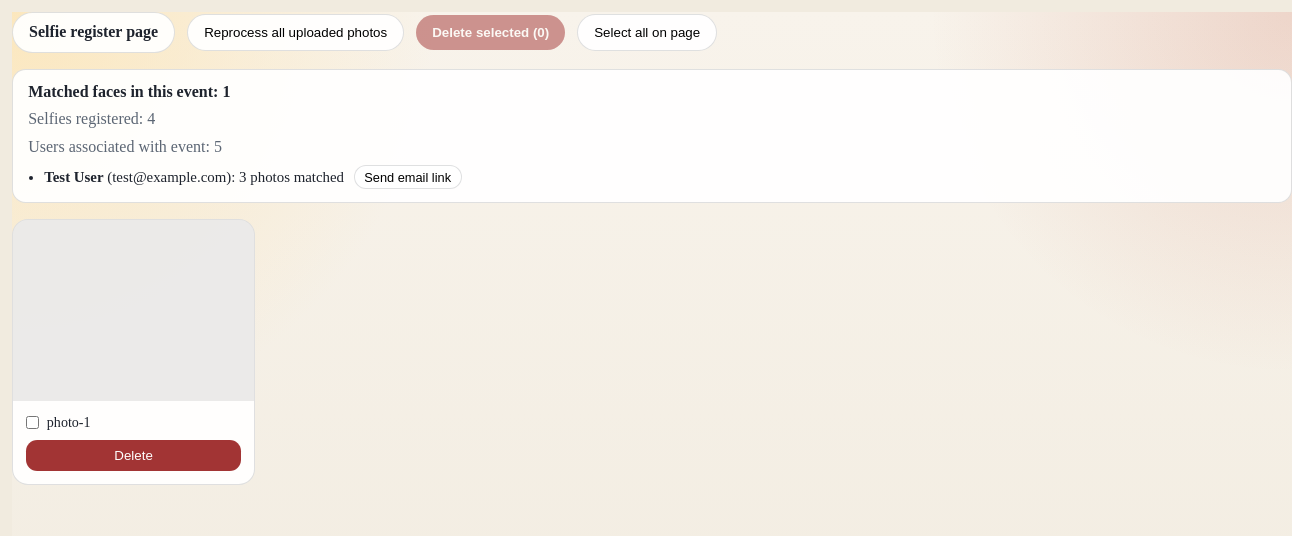
Test: photos manager › reprocesses all uploaded photos and shows summary counts
Click the button "Reprocess all uploaded photos" at (296, 32), box top-left (187, 14), bottom-right (404, 51)
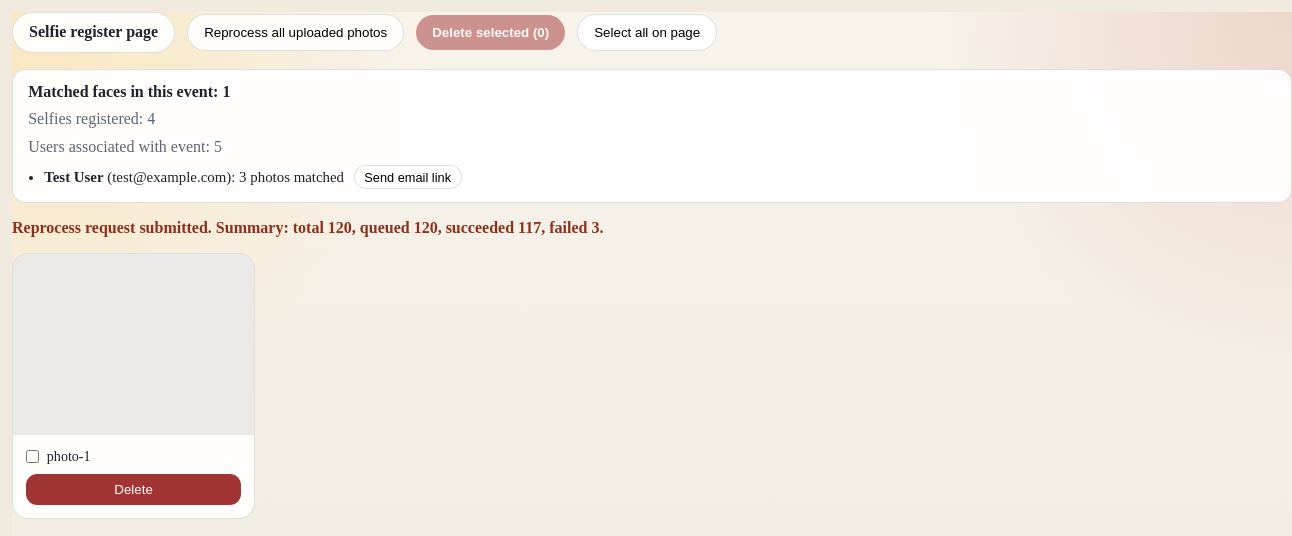
Expected: the text "Reprocess request submitted. Summary: total 120, queued 120, succeeded 117, failed 3." is shown, top-left (12, 219), bottom-right (603, 236)
